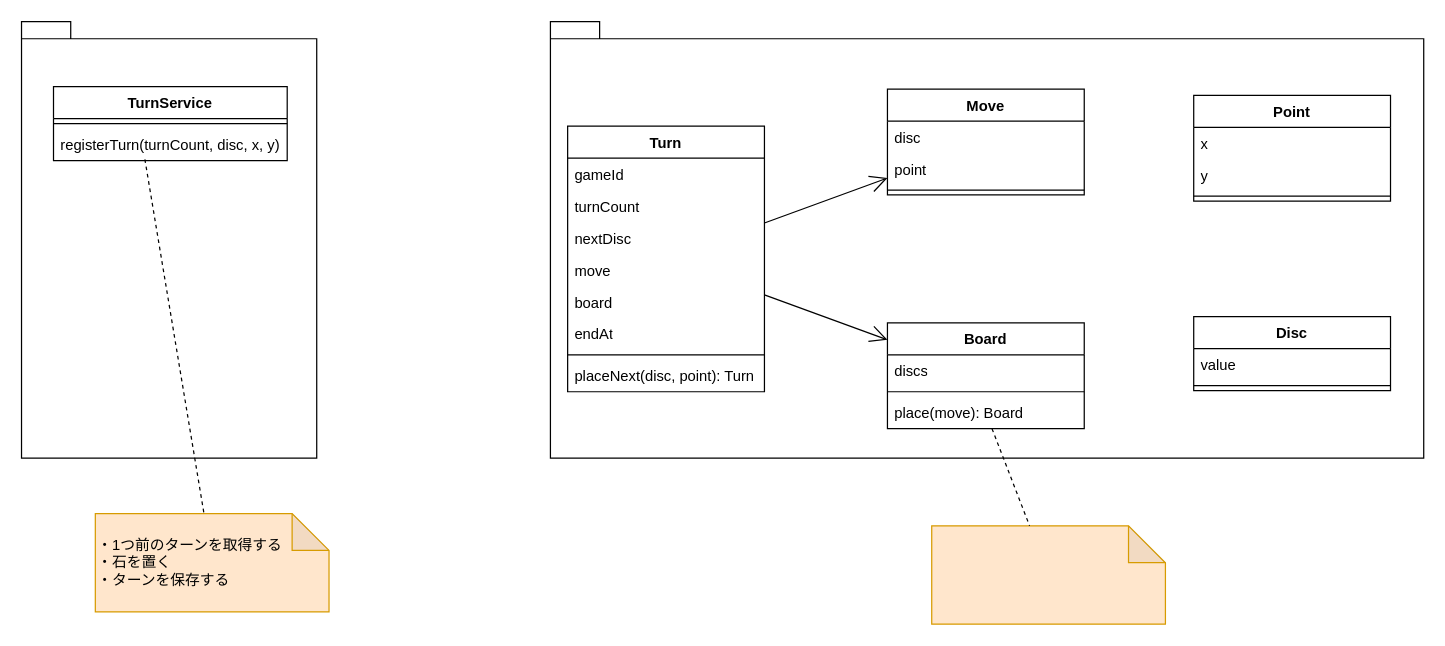
Some shapes in this 1445 by 646 pixel diagram are drawn without their labels. The shapes that lost their labels are listed below. From the top down, each one's box as (x1, y1, x2, y2) in pixels, then its label:
(20, 20, 317, 458): application
(549, 20, 1424, 458): domain
(930, 525, 1165, 624): placeの内部では ・盤面におけるかチェック ・石を置く ・ひっくり返す
